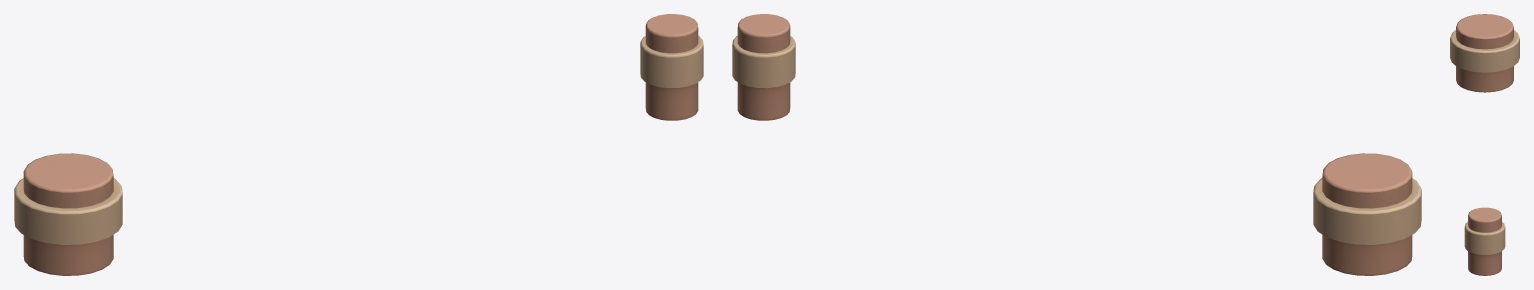
The model's file is Props.fbx.
3 renders of one model, left to right at view 1: azimuth 30°, elevation 25°; view 2: azimuth 150°, elevation 25°; view 3: azimuth 270°, elevation 25°, orthographic. The views are drawn at different scales.
Parts seen in each view (by area): view 1: Cylinder-3, Cylinder-2; view 2: Cylinder-3, Cylinder-2; view 3: Cylinder-3, Cylinder-2.
Part boxes in pixels (bbox=[...]): Cylinder-3: bbox=[14, 153, 122, 275]; Cylinder-2: bbox=[640, 14, 703, 120]; Cylinder-3: bbox=[1313, 153, 1421, 275]; Cylinder-2: bbox=[732, 14, 795, 120]; Cylinder-3: bbox=[1450, 14, 1519, 92]; Cylinder-2: bbox=[1464, 207, 1505, 275].
Bounding box in the file's own units: 41.58 × 5 × 5.79.
